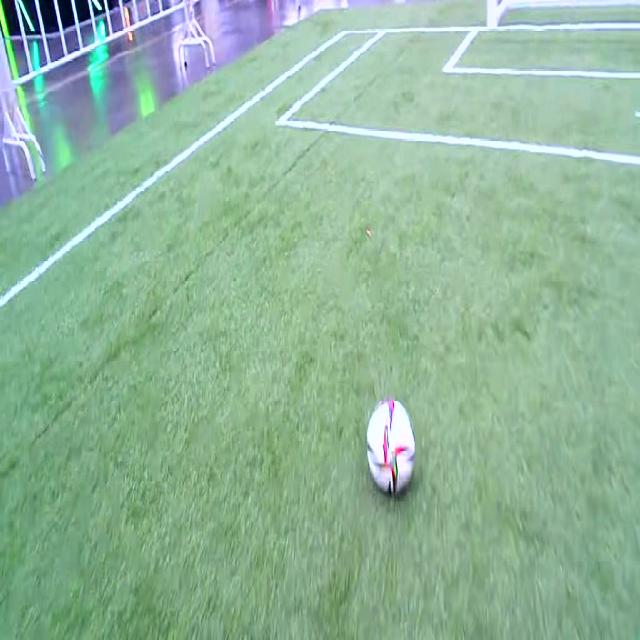ball: (367, 399, 415, 498)
